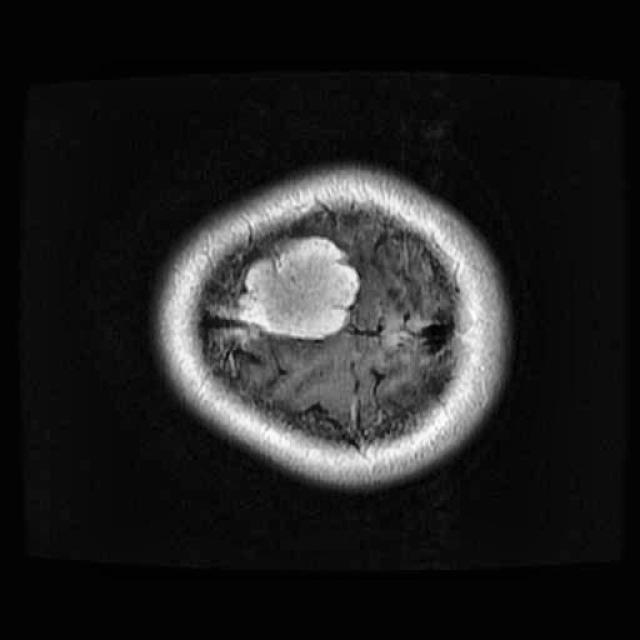Tumor: (221, 224, 369, 351)
